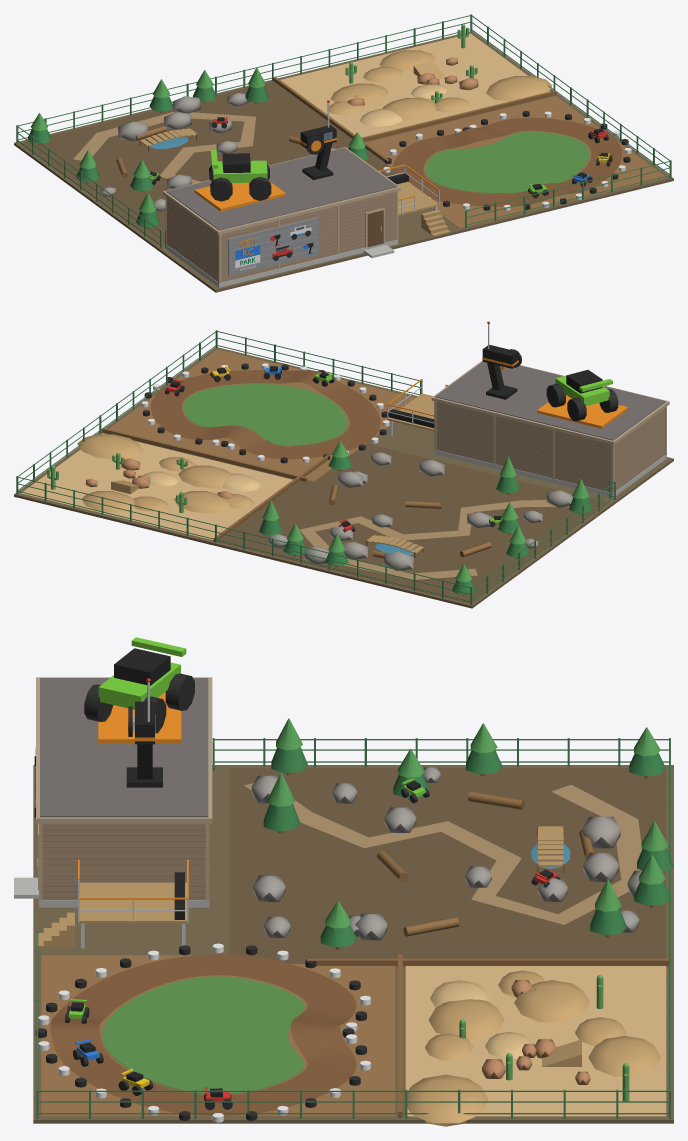
3 views of the same model, one above another, from view 1: azimuth 30°, elevation 25°; view 2: azimuth 150°, elevation 25°; view 3: azimuth 270°, elevation 25° (orthographic). The views are drawn at different scales.
Parts seen in each view (by area): view 1: base; view 2: base; view 3: base.
Part boxes in pixels (<box>): base: <box>14,14,673,292</box>; base: <box>14,321,673,608</box>; base: <box>14,637,673,1126</box>.
Bounding box in the file's own units: 32.7 × 9.08 × 25.45.
